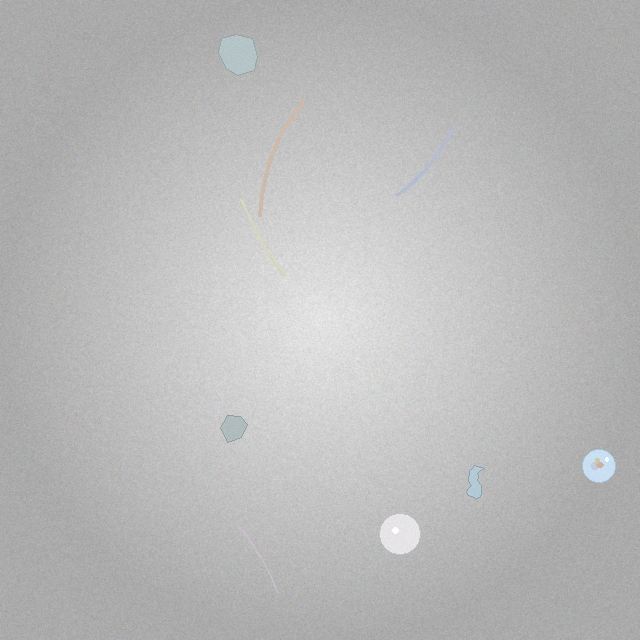fiber: (256, 98, 307, 220), (394, 123, 457, 199), (238, 196, 288, 280), (234, 522, 280, 595)
film: (466, 465, 485, 498)
foam: (582, 449, 615, 482)
fragment: (219, 35, 257, 75), (221, 416, 248, 442)
pellet: (380, 514, 420, 554)
